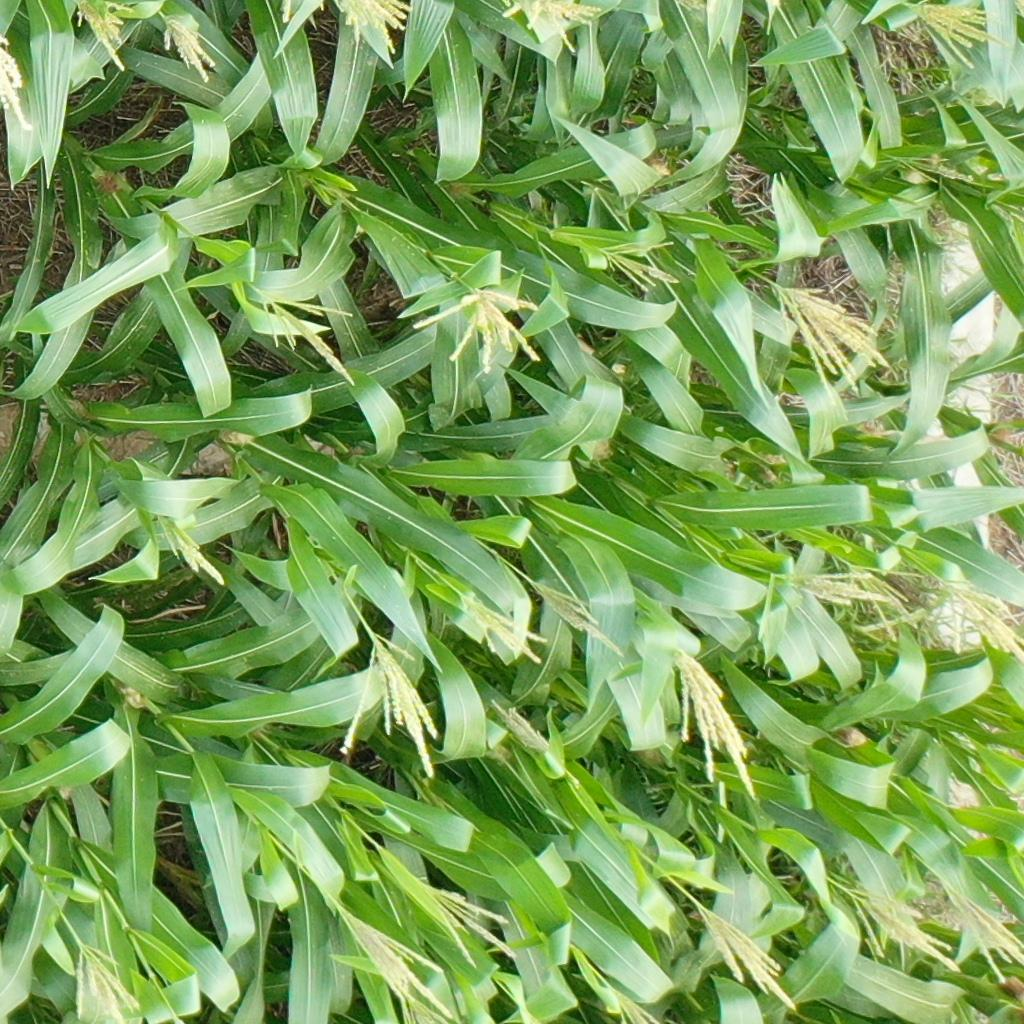Tassel: (771, 280, 898, 412), (337, 631, 450, 775), (331, 902, 459, 1017), (669, 648, 760, 804), (691, 898, 802, 1014), (838, 882, 962, 979), (414, 287, 545, 378), (257, 289, 366, 385), (531, 574, 630, 655), (419, 887, 519, 967), (456, 584, 549, 665), (938, 578, 1024, 660), (902, 1, 1008, 67), (953, 892, 1024, 988), (845, 559, 923, 642), (499, 1, 609, 59), (68, 947, 144, 1024), (587, 229, 680, 289), (777, 563, 889, 608), (160, 517, 228, 585), (73, 1, 139, 69), (157, 10, 220, 77), (330, 1, 412, 52), (490, 695, 556, 756), (1, 34, 40, 131), (894, 149, 978, 187), (310, 177, 363, 214), (607, 989, 662, 1024), (403, 996, 451, 1024)
